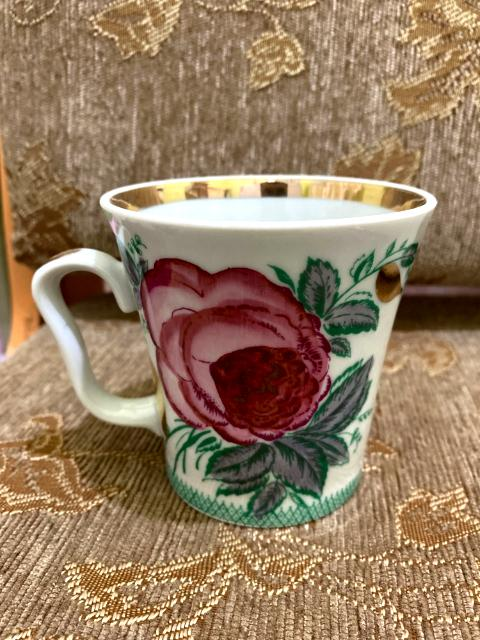Cup: (33, 176, 435, 526)
